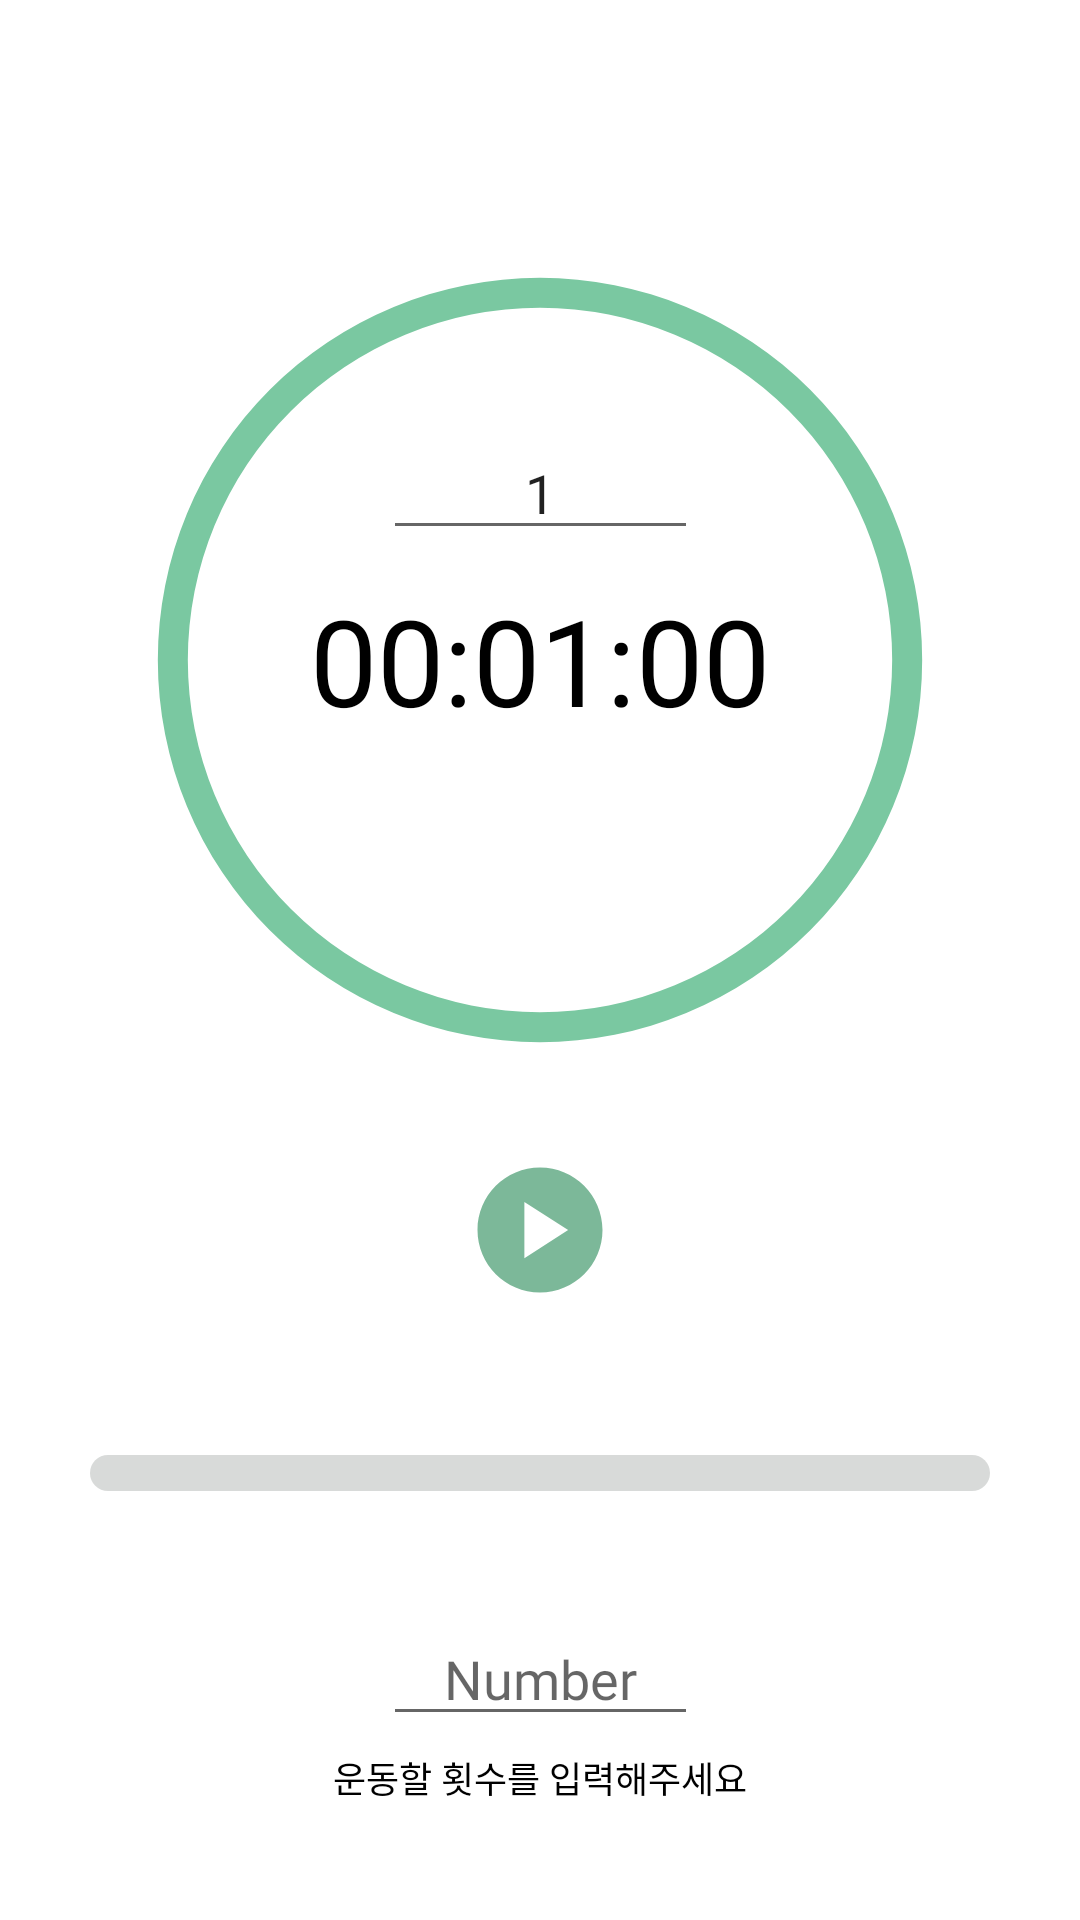

Where icons sit on this 1080w x 1920h app screen, as Rect(x1, y1, x2, y2):
play: Rect(477, 1167, 603, 1293)
